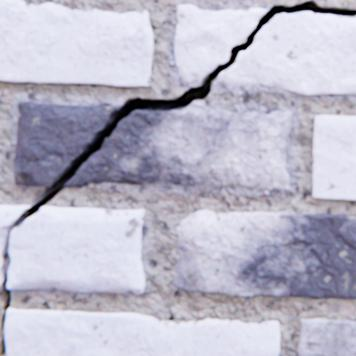brick: (172, 209, 355, 297), (6, 306, 279, 355), (0, 0, 153, 85), (312, 115, 355, 199), (297, 318, 355, 355)
broken_brick: (65, 108, 291, 190), (8, 205, 145, 292), (213, 12, 355, 94), (15, 101, 122, 186), (175, 5, 266, 81), (0, 204, 31, 255), (0, 257, 2, 267)
crack: (0, 0, 355, 354)
